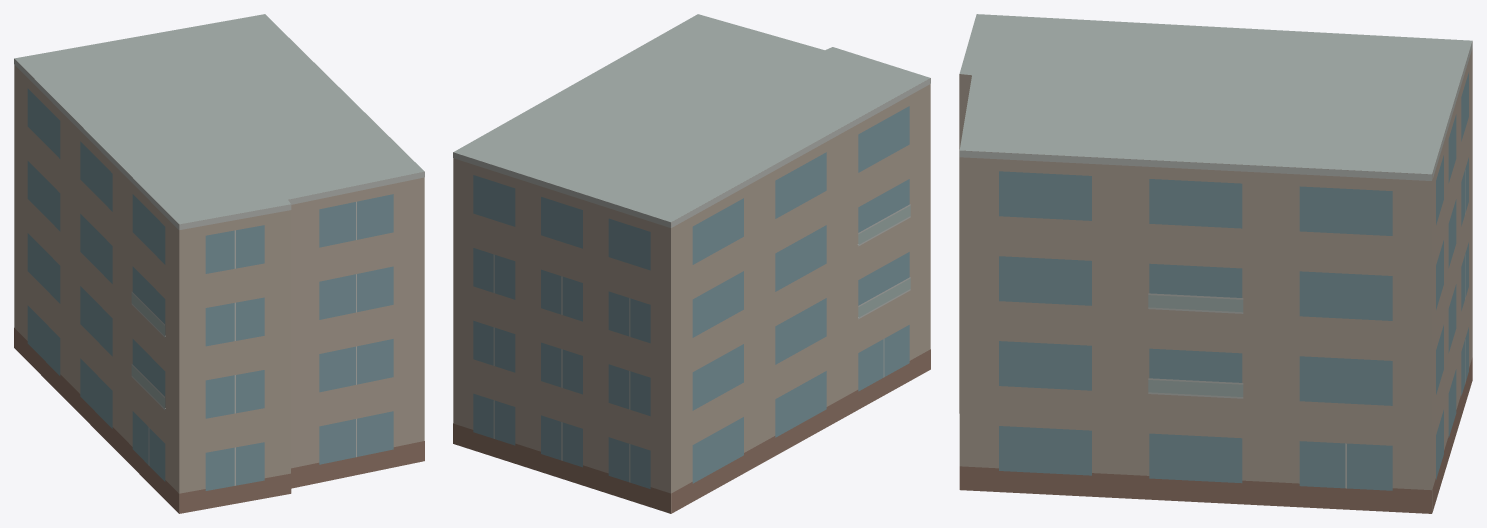
The model's file is survey-upis-32990522.glb.
3 views of the same model, side by side, from view 1: azimuth 30°, elevation 25°; view 2: azimuth 150°, elevation 25°; view 3: azimuth 270°, elevation 25° (orthographic). The views are drawn at different scales.
Parts seen in each view (by area): view 1: survey-upis-32990522.tmp; view 2: survey-upis-32990522.tmp; view 3: survey-upis-32990522.tmp.
Boxes of the visible parts, x1=… form: survey-upis-32990522.tmp: x1=14, y1=14, x2=424, y2=513; survey-upis-32990522.tmp: x1=453, y1=14, x2=930, y2=513; survey-upis-32990522.tmp: x1=959, y1=14, x2=1472, y2=513.
Size of the model in its own units: 12.33 by 12.17 by 16.68.
